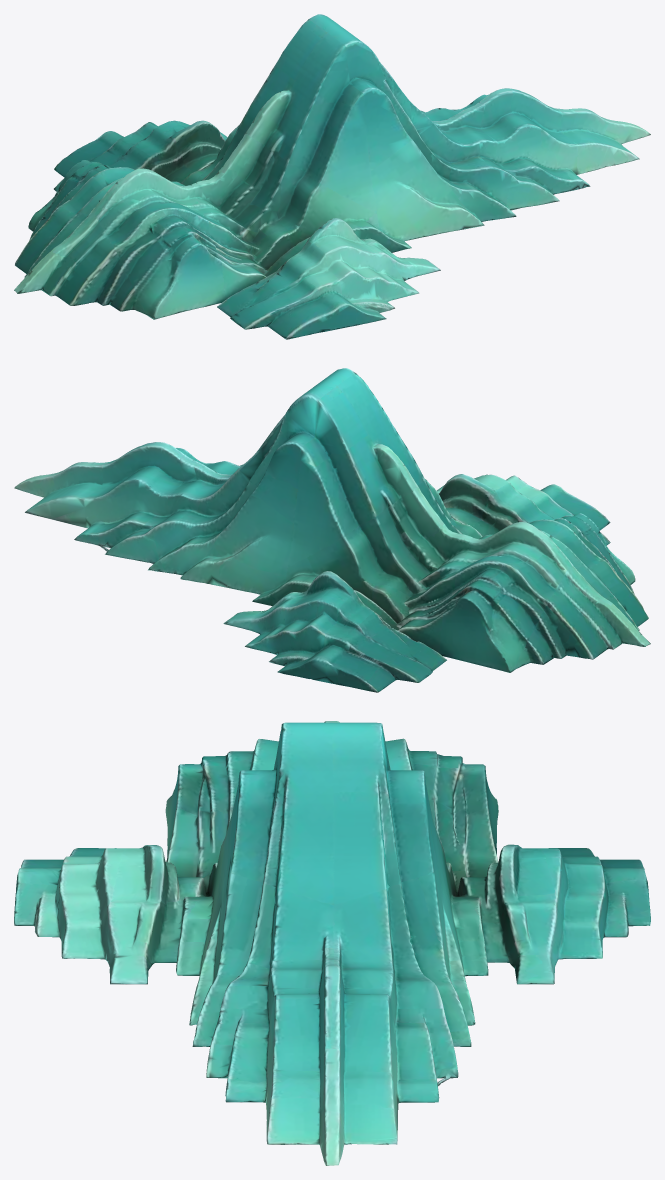
File: moon_mountains.glb
3 views of the same model, one above another, from view 1: azimuth 30°, elevation 25°; view 2: azimuth 150°, elevation 25°; view 3: azimuth 270°, elevation 25° (orthographic). The views are drawn at different scales.
Parts seen in each view (by area): view 1: tripo_node_252b23f5-e0f6-442f-9cc2-a99bc8e8ad44; view 2: tripo_node_252b23f5-e0f6-442f-9cc2-a99bc8e8ad44; view 3: tripo_node_252b23f5-e0f6-442f-9cc2-a99bc8e8ad44.
Part boxes in pixels (box(x1,y1,x2,y2)): tripo_node_252b23f5-e0f6-442f-9cc2-a99bc8e8ad44: box(14, 14, 650, 339); tripo_node_252b23f5-e0f6-442f-9cc2-a99bc8e8ad44: box(14, 368, 650, 692); tripo_node_252b23f5-e0f6-442f-9cc2-a99bc8e8ad44: box(14, 721, 650, 1165).
Size of the model in its own units: 0.9866 by 0.2775 by 0.6507.
Materials: 1 (1 with a texture image).
